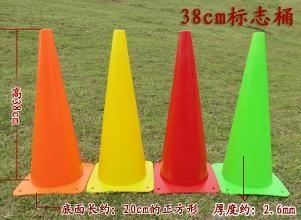cone_barrel: (217, 32, 284, 199), (86, 32, 151, 190), (22, 29, 84, 194), (152, 33, 215, 191)
